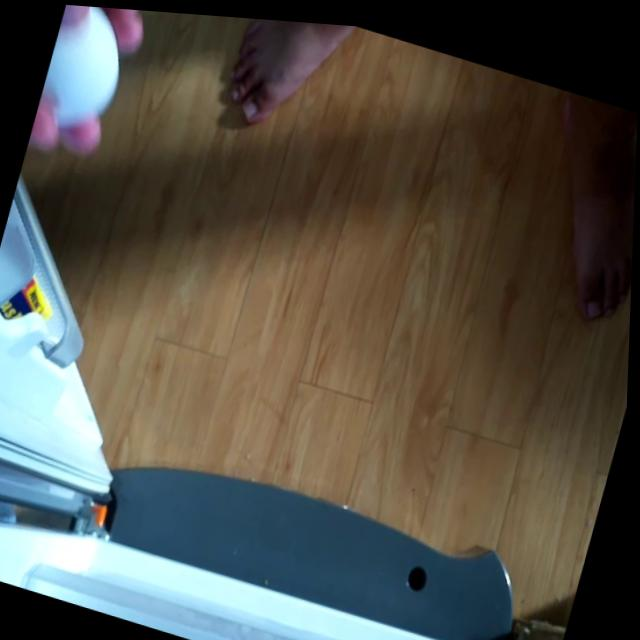egg: (34, 2, 139, 142)
